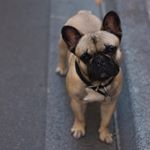puppy: (52, 6, 129, 150)
